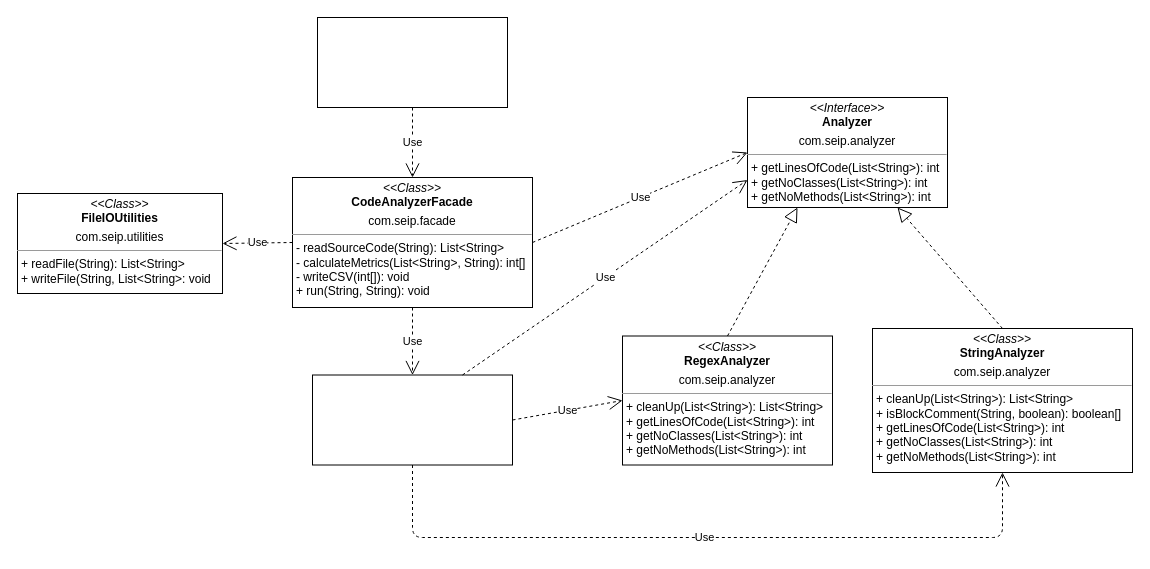
The diagram is 1150 pixels wide and 569 high, and some of its shapes have lost their labels. Each missing label, with the centre of its shape:
<<Class>> AnalyzerFactory com.seip.analyzer + createAnalyzer(String): Analyzer: the point at 412,419
<<Class>> CodeAnalyzerDemo com.seip + main(String[]): void: the point at 412,62
